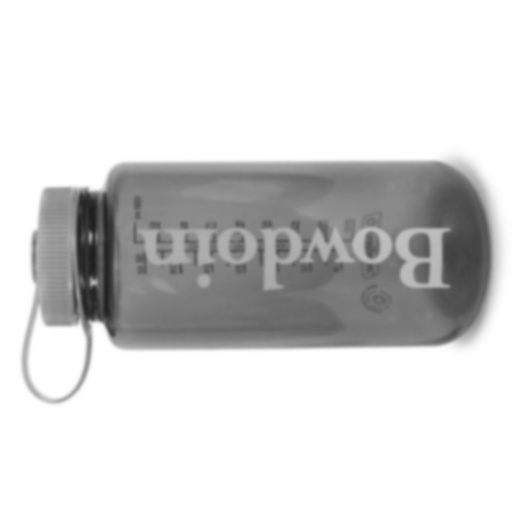bottle: (20, 157, 493, 406)
